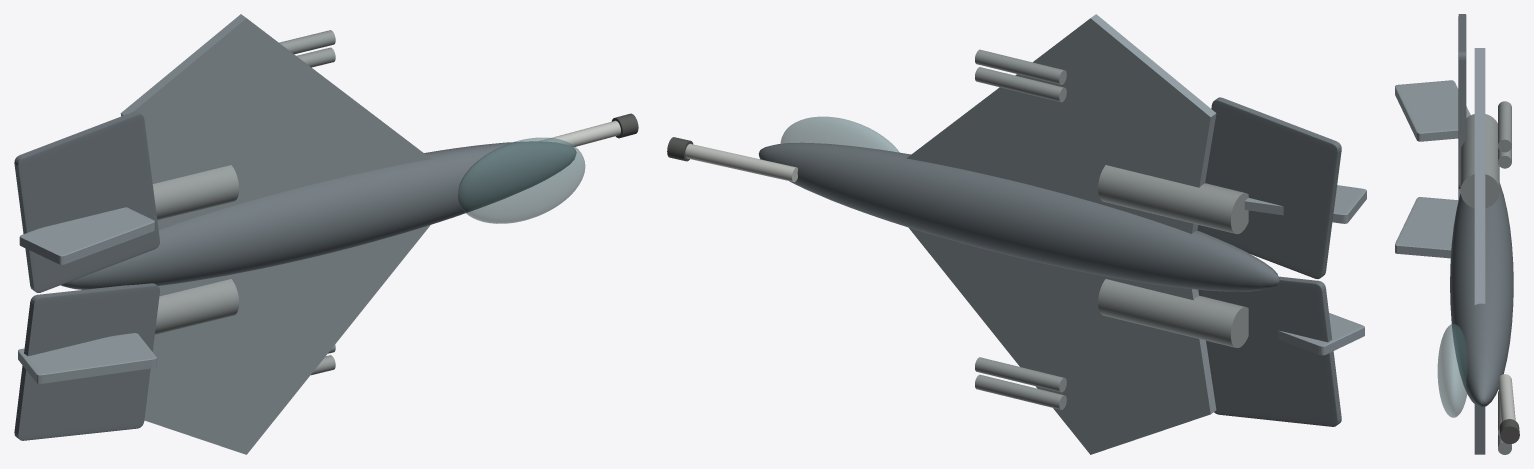
Rendered from s-u23-specter-interceptor-lod1.glb.
The picture shows the model from 3 angles, left to right: view 1: azimuth 30°, elevation 25°; view 2: azimuth 150°, elevation 25°; view 3: azimuth 270°, elevation 25°; orthographic projection. The views are drawn at different scales.
Visible parts, largest first — view 1: combat_main_wing, combat_fuselage, combat_tailplane_1, combat_tailplane_-1, combat_canopy, combat_fin_-1, combat_fin_1, combat_engine_1, combat_engine_0, combat_gun_barrel_0, combat_1_tube_2; view 2: combat_main_wing, combat_fuselage, combat_tailplane_1, combat_tailplane_-1, combat_engine_0, combat_engine_1, combat_canopy, combat_gun_barrel_0, combat_fin_-1, combat_-1_tube_1, combat_1_tube_2, combat_-1_tube_2 (+2 smaller); view 3: combat_fuselage, combat_main_wing, combat_fin_1, combat_fin_-1, combat_engine_1, combat_canopy, combat_tailplane_1, combat_1_tube_2, combat_gun_barrel_0, combat_gun_muzzle_0, combat_1_tube_1, combat_-1_tube_1.
Boxes of the visible parts, x1,y1,x2,y2 form: combat_main_wing: (120, 14, 430, 454); combat_fuselage: (61, 141, 576, 289); combat_tailplane_1: (14, 111, 159, 292); combat_tailplane_-1: (14, 283, 159, 440); combat_canopy: (458, 137, 585, 223); combat_fin_-1: (18, 333, 156, 383); combat_fin_1: (19, 207, 154, 264); combat_engine_1: (152, 165, 238, 220); combat_engine_0: (154, 279, 238, 334); combat_gun_barrel_0: (541, 120, 620, 147); combat_1_tube_2: (279, 30, 335, 54); combat_main_wing: (906, 14, 1216, 454); combat_fuselage: (758, 142, 1279, 291); combat_tailplane_1: (1197, 97, 1341, 278); combat_tailplane_-1: (1198, 276, 1341, 426); combat_engine_0: (1098, 279, 1248, 347); combat_engine_1: (1098, 165, 1248, 234); combat_canopy: (780, 116, 899, 152); combat_gun_barrel_0: (685, 143, 797, 182); combat_fin_-1: (1278, 313, 1364, 355); combat_-1_tube_1: (975, 374, 1066, 409); combat_1_tube_2: (975, 49, 1066, 84); combat_-1_tube_2: (975, 357, 1066, 392); combat_fuselage: (1450, 183, 1513, 407); combat_main_wing: (1474, 48, 1485, 454); combat_fin_1: (1395, 80, 1470, 141); combat_fin_-1: (1395, 197, 1458, 258); combat_engine_1: (1460, 114, 1499, 208); combat_canopy: (1437, 324, 1467, 417); combat_tailplane_1: (1458, 14, 1466, 188); combat_1_tube_2: (1498, 101, 1511, 152); combat_gun_barrel_0: (1498, 374, 1515, 421); combat_gun_muzzle_0: (1499, 419, 1519, 444); combat_1_tube_1: (1498, 147, 1511, 168); combat_-1_tube_1: (1498, 434, 1511, 454).
Size of what is drawn, in the model's own units: 12.56 by 8.13 by 2.26.
